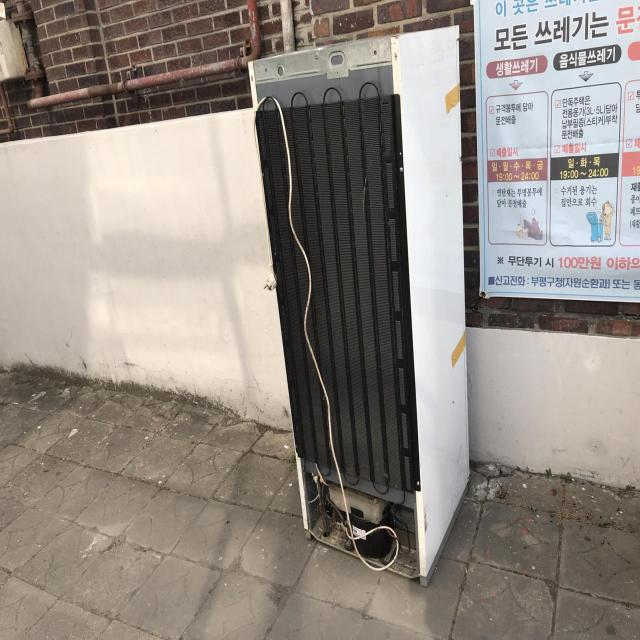refrigerator: (243, 19, 476, 590)
